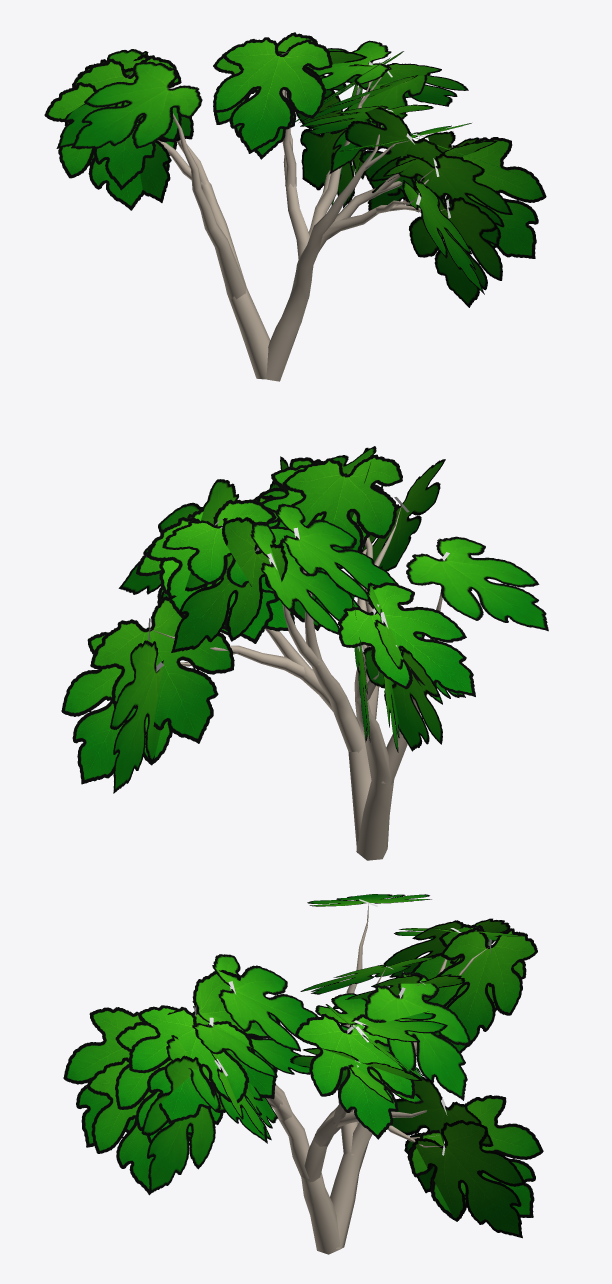
Rendered from Stage 1 Asset.fbx.
The picture shows the model from 3 angles, top to bottom: view 1: azimuth 30°, elevation 25°; view 2: azimuth 150°, elevation 25°; view 3: azimuth 270°, elevation 25°; orthographic projection. The views are drawn at different scales.
Parts seen in each view (by area): view 1: leaves.001|foglia fico plane|Dupli|, tree.001; view 2: leaves.001|foglia fico plane|Dupli|, tree.001; view 3: leaves.001|foglia fico plane|Dupli|, tree.001, leaves.001.
Boxes of the visible parts, x1=… form: leaves.001|foglia fico plane|Dupli|: x1=44, y1=32, x2=546, y2=307; tree.001: x1=157, y1=77, x2=451, y2=381; leaves.001|foglia fico plane|Dupli|: x1=61, y1=446, x2=548, y2=793; tree.001: x1=150, y1=505, x2=442, y2=860; leaves.001|foglia fico plane|Dupli|: x1=63, y1=894, x2=543, y2=1238; tree.001: x1=266, y1=904, x2=488, y2=1254; leaves.001: x1=194, y1=899, x2=491, y2=1155.
Size of the model in its own units: 757 by 882 by 563.
